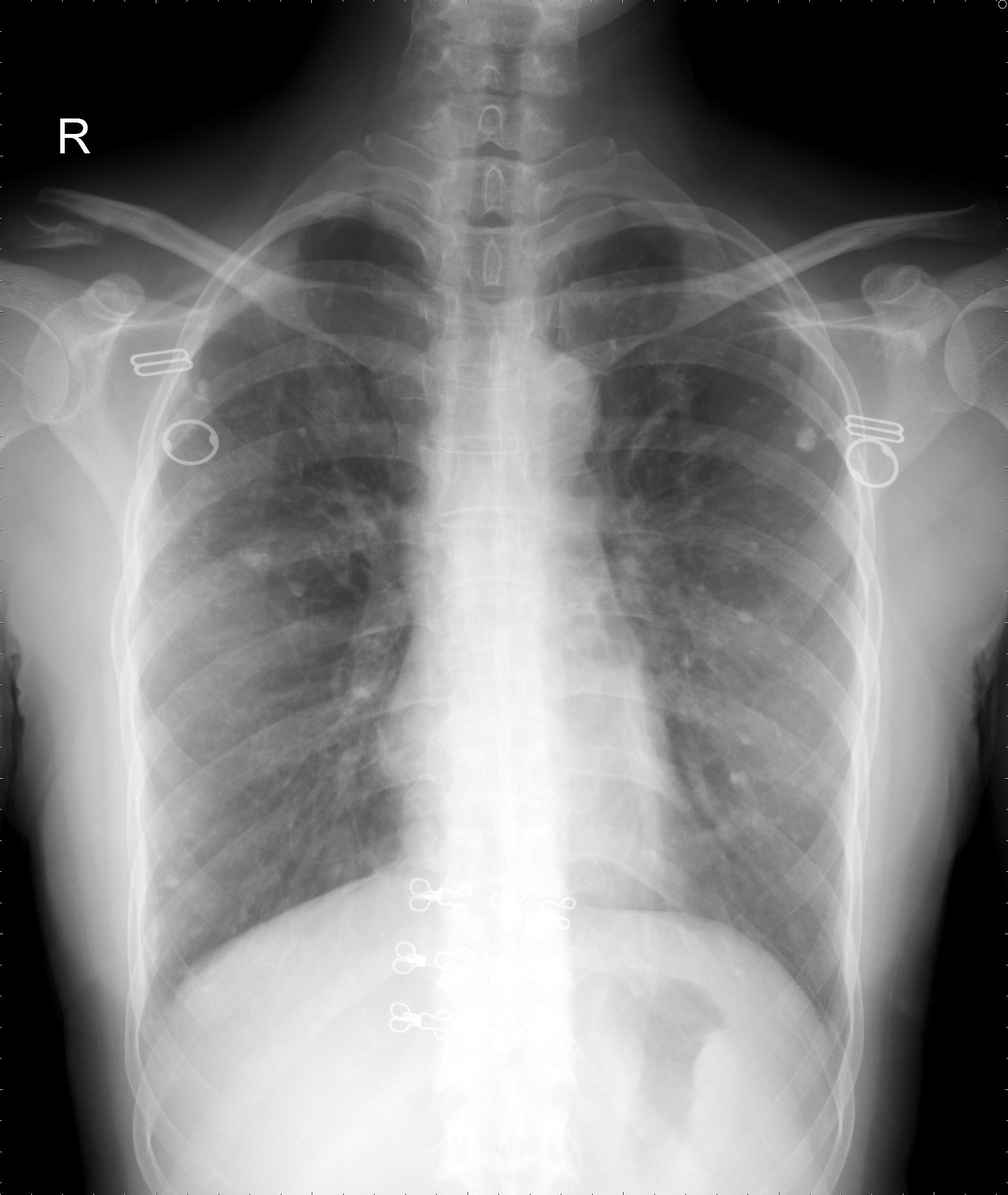Pulmonary fibrosis: (167, 368, 279, 606), (743, 311, 790, 422)
